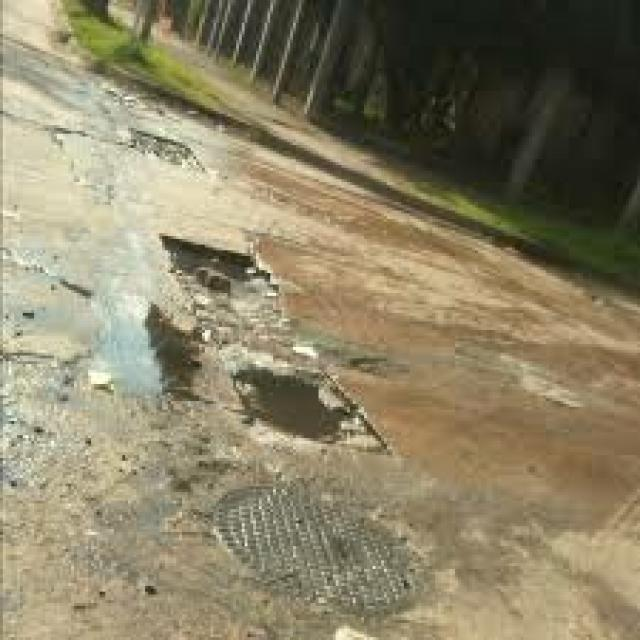Pothole: (82, 111, 410, 486)
